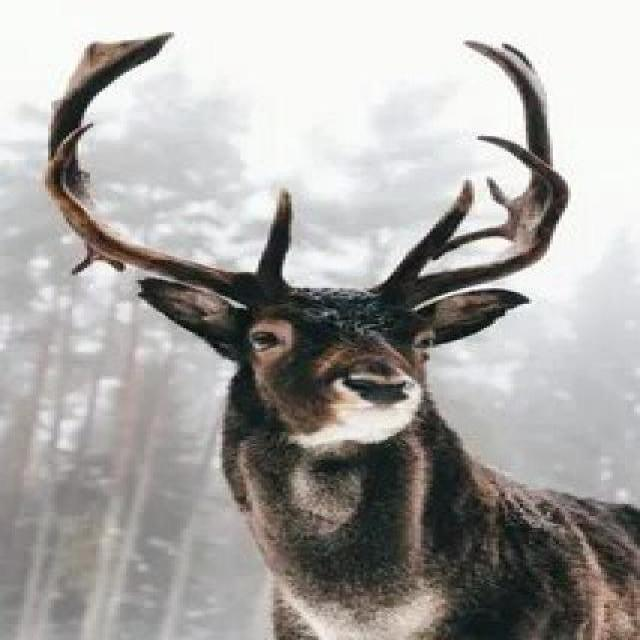deer: (63, 138, 640, 593)
